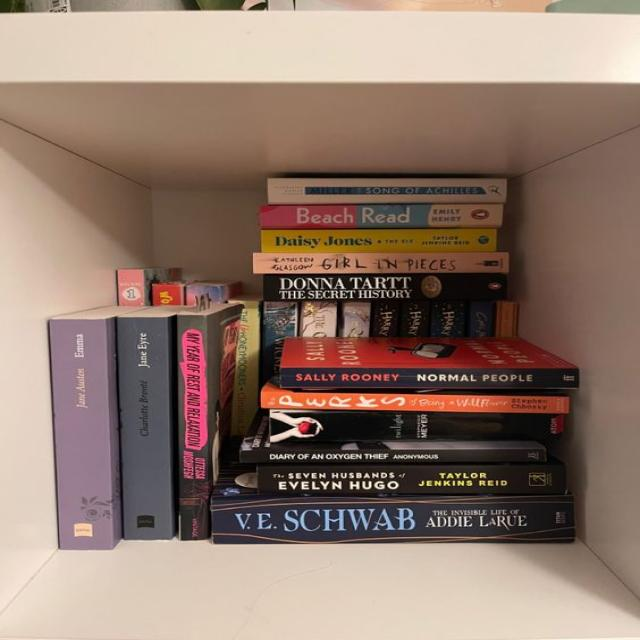book: (211, 495, 574, 543), (49, 319, 114, 551), (121, 316, 173, 542), (261, 383, 569, 414), (255, 464, 566, 494), (269, 410, 559, 442), (179, 315, 210, 539), (239, 441, 547, 463), (263, 273, 506, 300), (268, 178, 506, 204), (261, 204, 503, 229), (281, 369, 579, 389), (254, 252, 508, 274), (260, 229, 496, 252)
